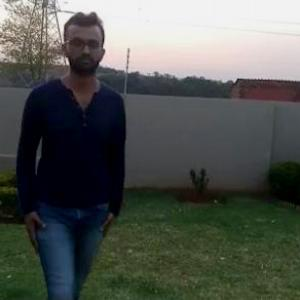follow: (28, 30, 116, 299)
